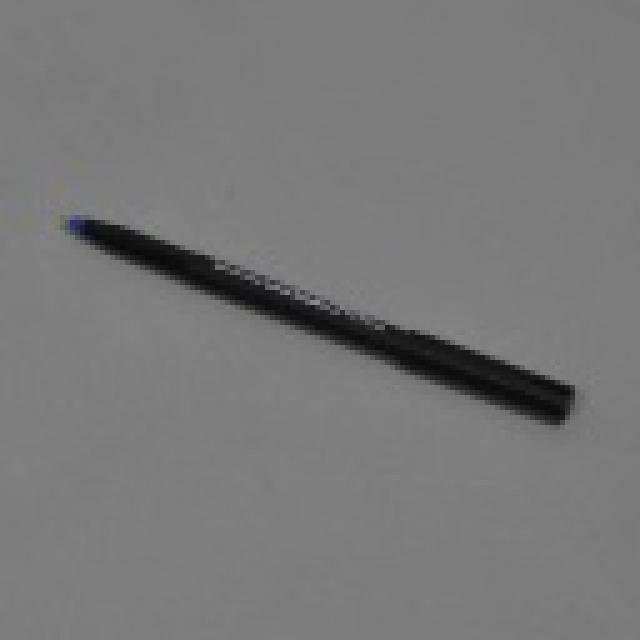pen: (62, 213, 582, 444)
